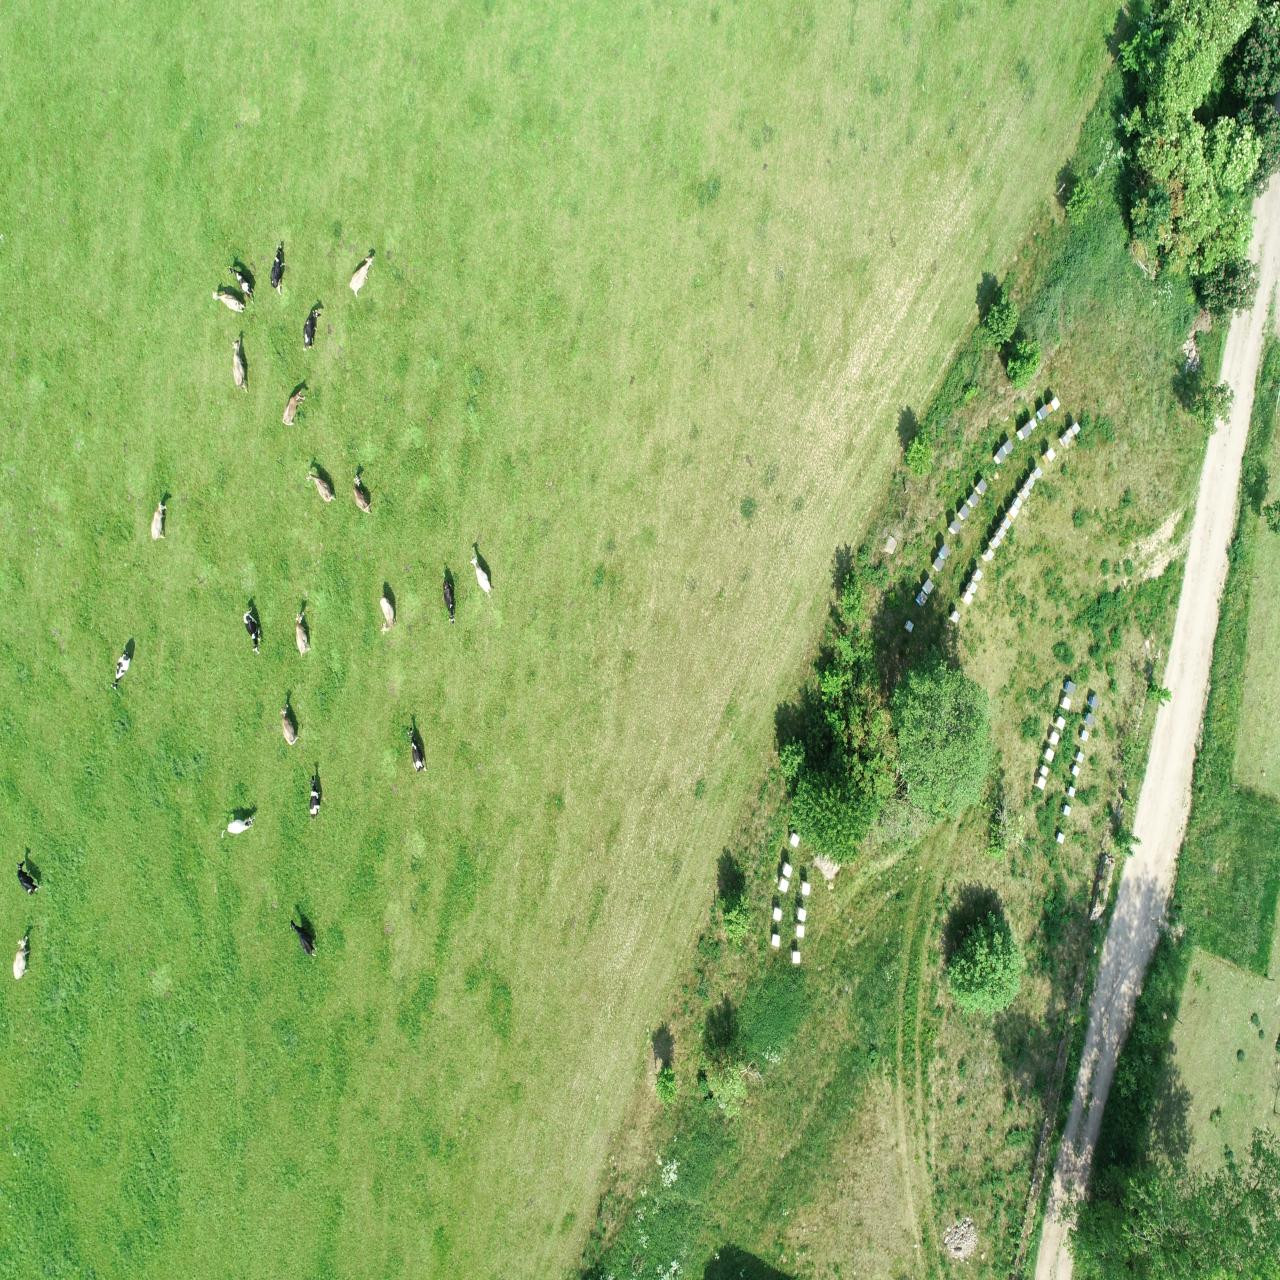cow: (288, 915, 319, 967), (347, 250, 376, 302), (406, 723, 433, 776), (13, 857, 45, 901), (225, 264, 257, 308), (304, 469, 339, 509), (109, 642, 137, 692), (11, 930, 35, 983), (349, 472, 377, 519), (469, 552, 495, 602), (240, 606, 265, 659), (438, 567, 458, 632), (230, 339, 251, 396), (279, 701, 302, 750), (267, 241, 287, 299), (219, 815, 258, 843), (281, 388, 307, 429), (300, 306, 322, 353), (376, 593, 400, 636), (210, 287, 247, 314), (149, 497, 170, 543), (293, 610, 312, 660), (307, 774, 325, 825)
